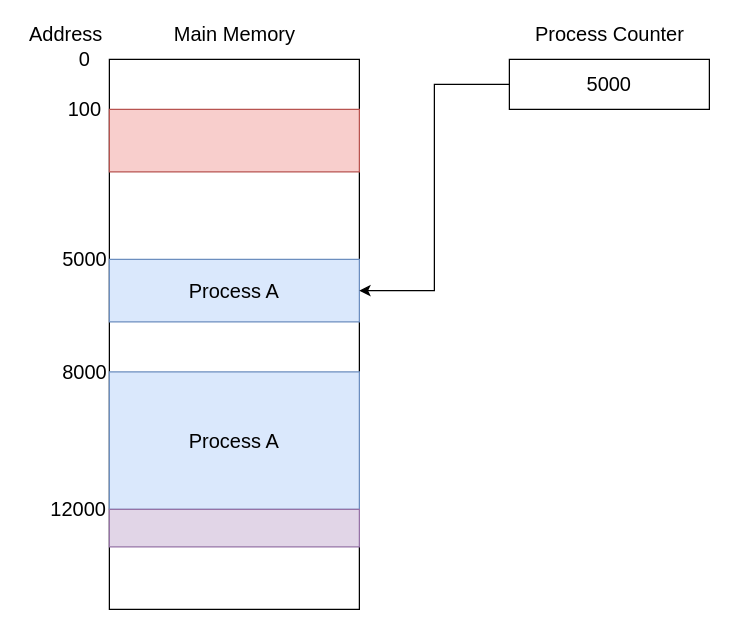
Some shapes in this 731 by 631 pixel diagram are drawn without their labels. The box of each missing label's shape, as (x1, y1, x2, y2) in pixels:
Dispatcher - 分派程序: (108, 108, 359, 172)
Process C: (108, 508, 359, 547)
